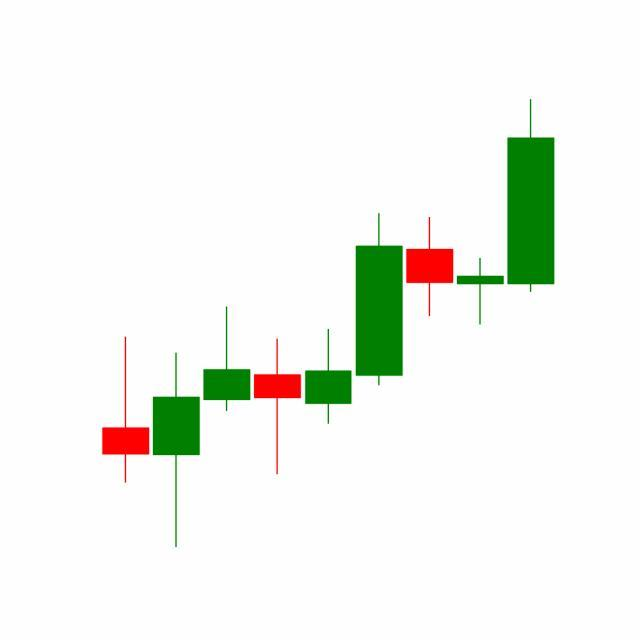Hikkake Pattern: (252, 211, 506, 478)
